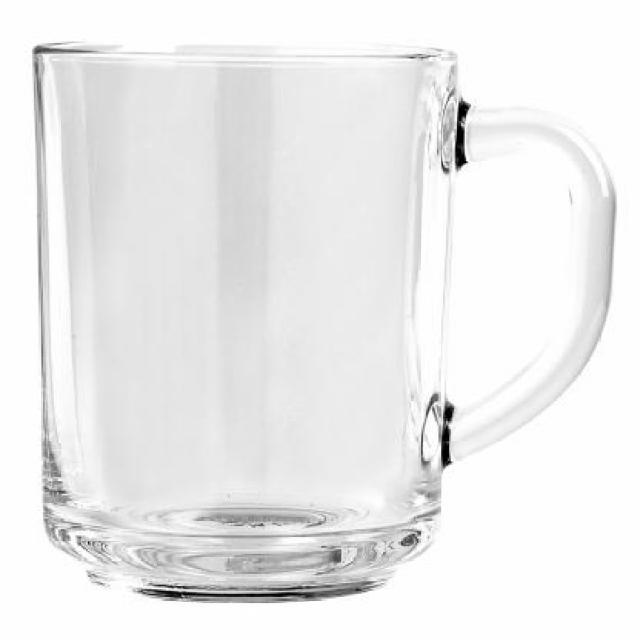taza: (29, 39, 616, 602)
